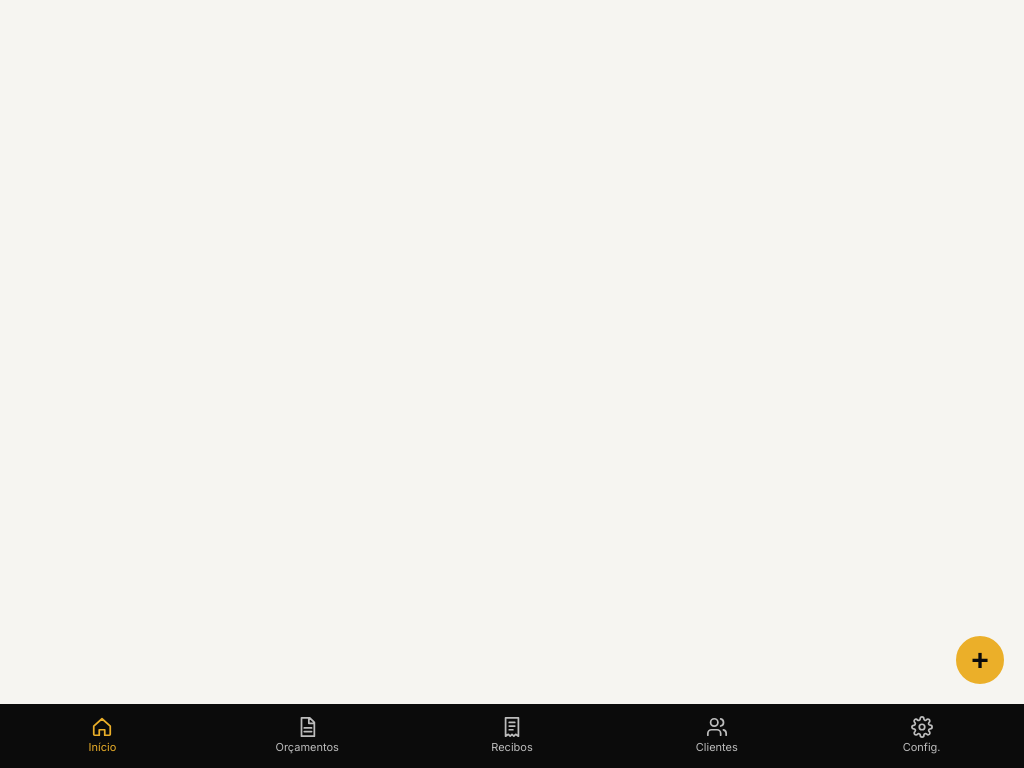
Test case: botão + abre as 3 opções de criação
Click the button named "Novo documento" at (980, 660), box left=952, top=632, right=1008, bottom=688
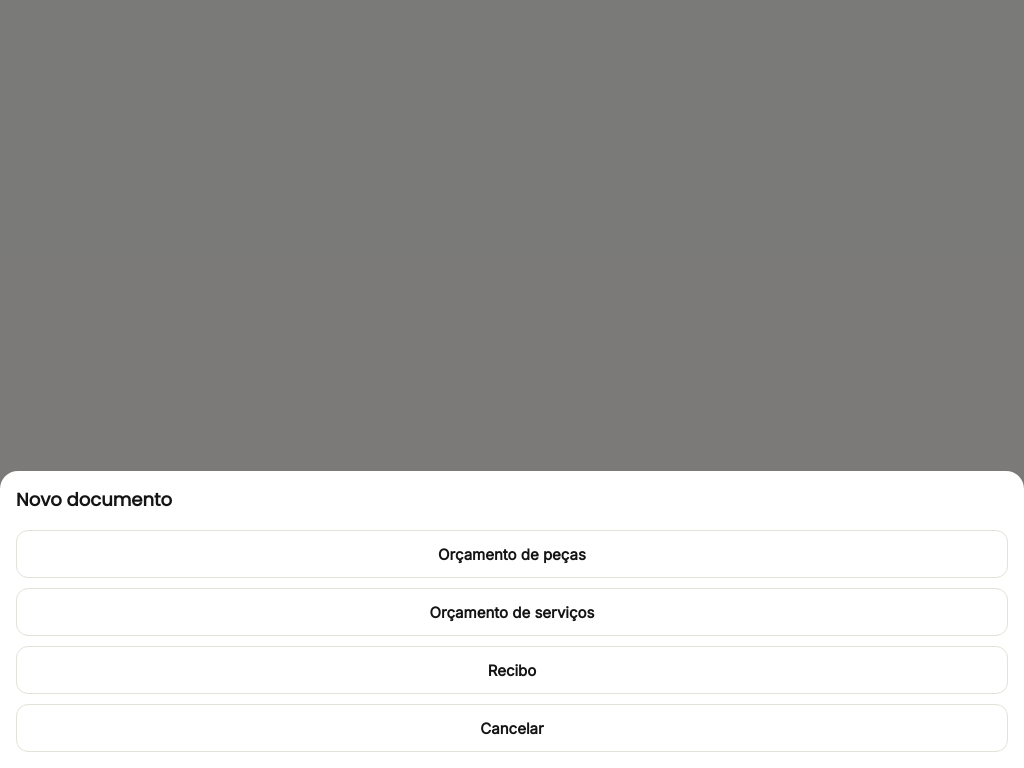
Result: the button "Orçamento de peças" is shown at left=16, top=530, right=1008, bottom=578
Result: the button "Orçamento de serviços" is shown at left=16, top=588, right=1008, bottom=636
Result: the button "Recibo" is shown at left=16, top=646, right=1008, bottom=694
